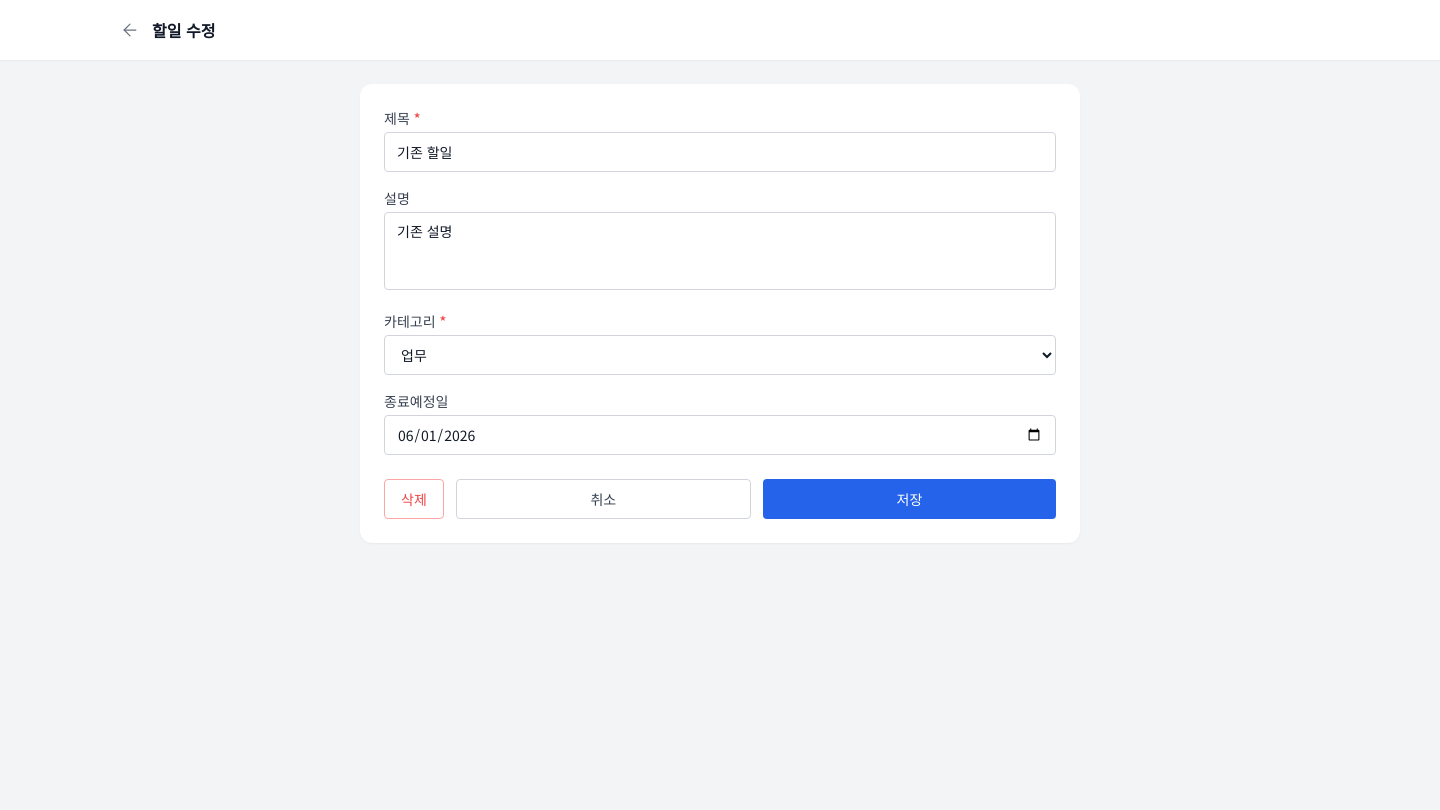
Scenario: TodoEditPage › 모달에서 취소 클릭 시 모달 닫힘
Click the button "삭제" at (414, 499), box [384,479,444,519]
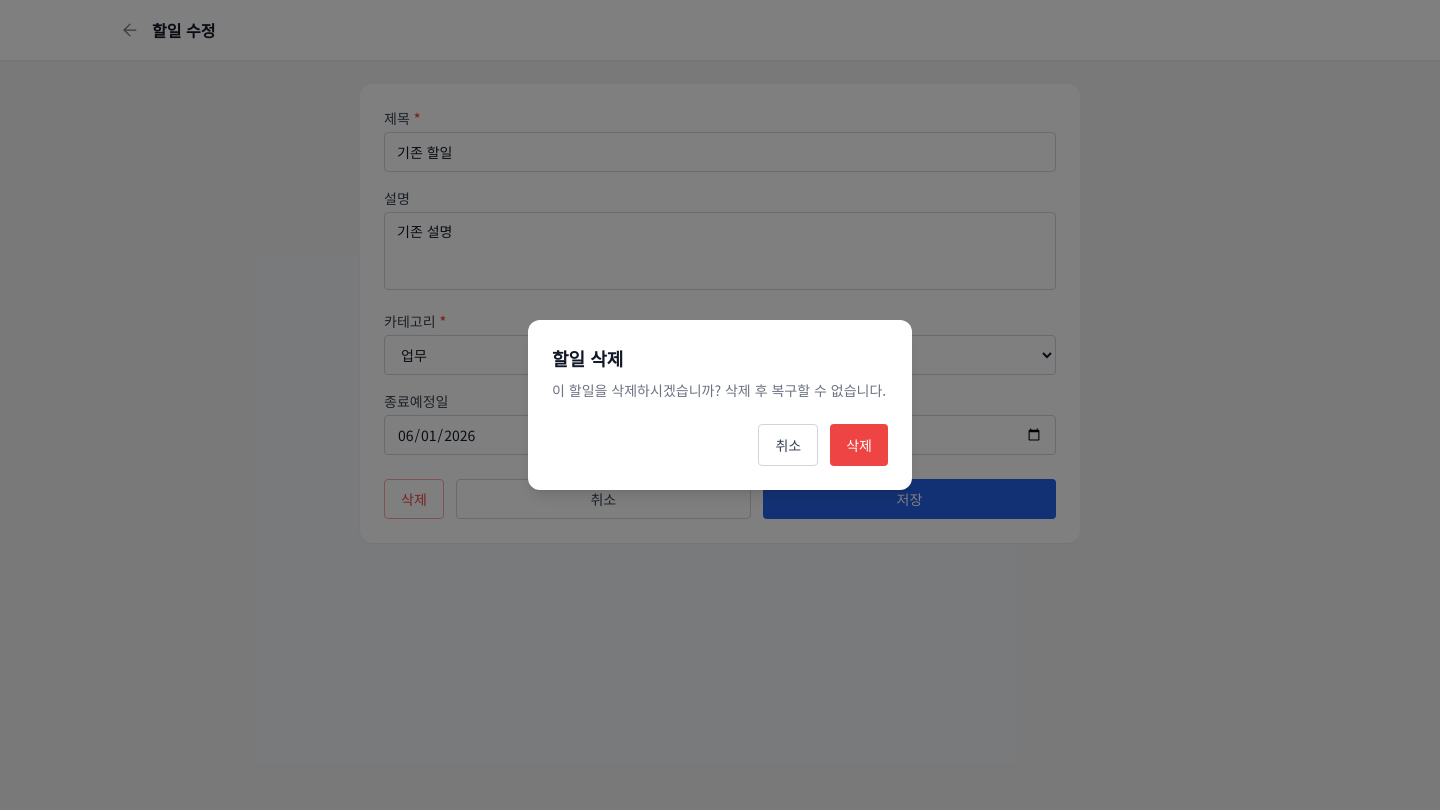
Expected: the heading "할일 삭제" is shown, [552,345,623,371]
Click the button "취소" at (788, 445), box [758,424,818,466]
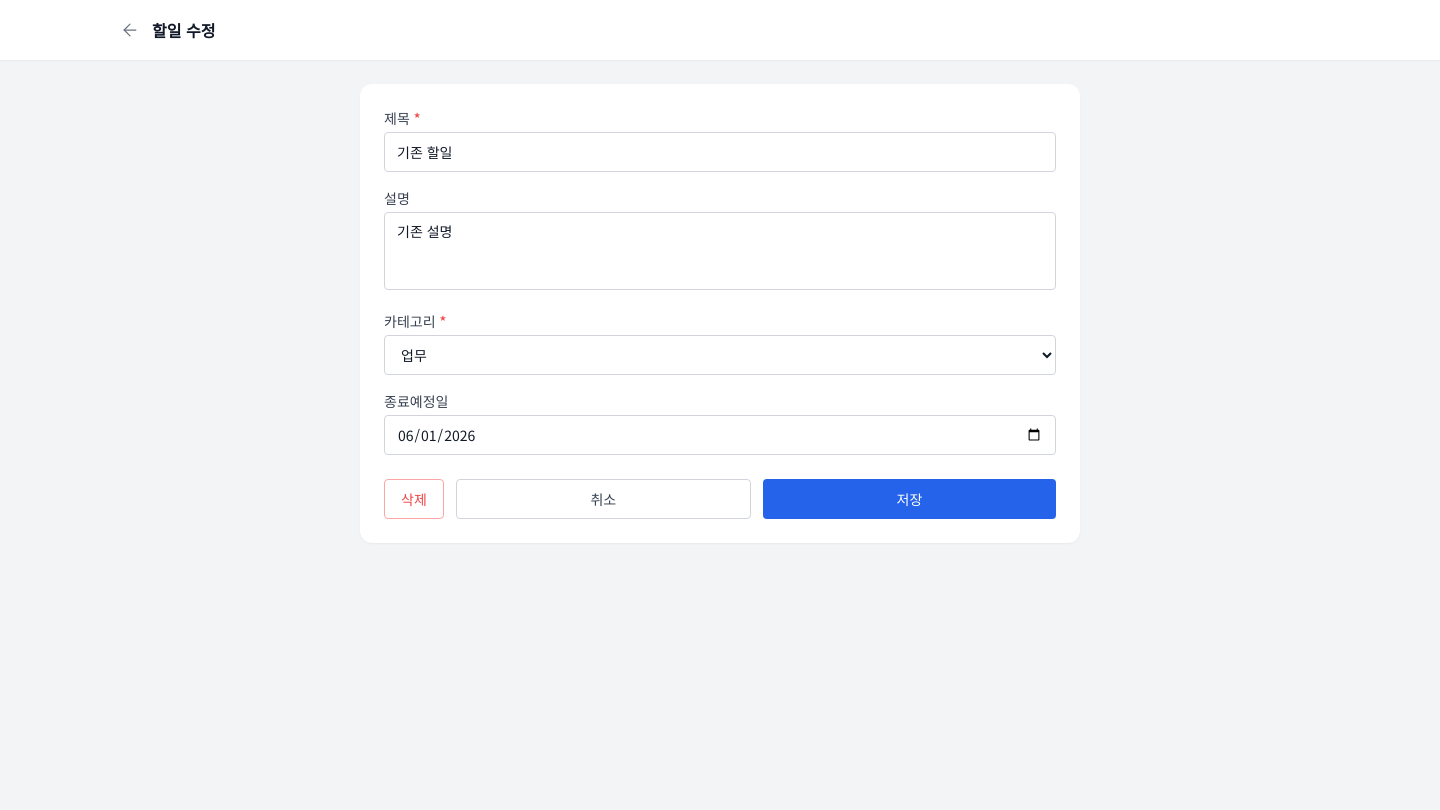
Expected: the heading "할일 삭제" is gone
